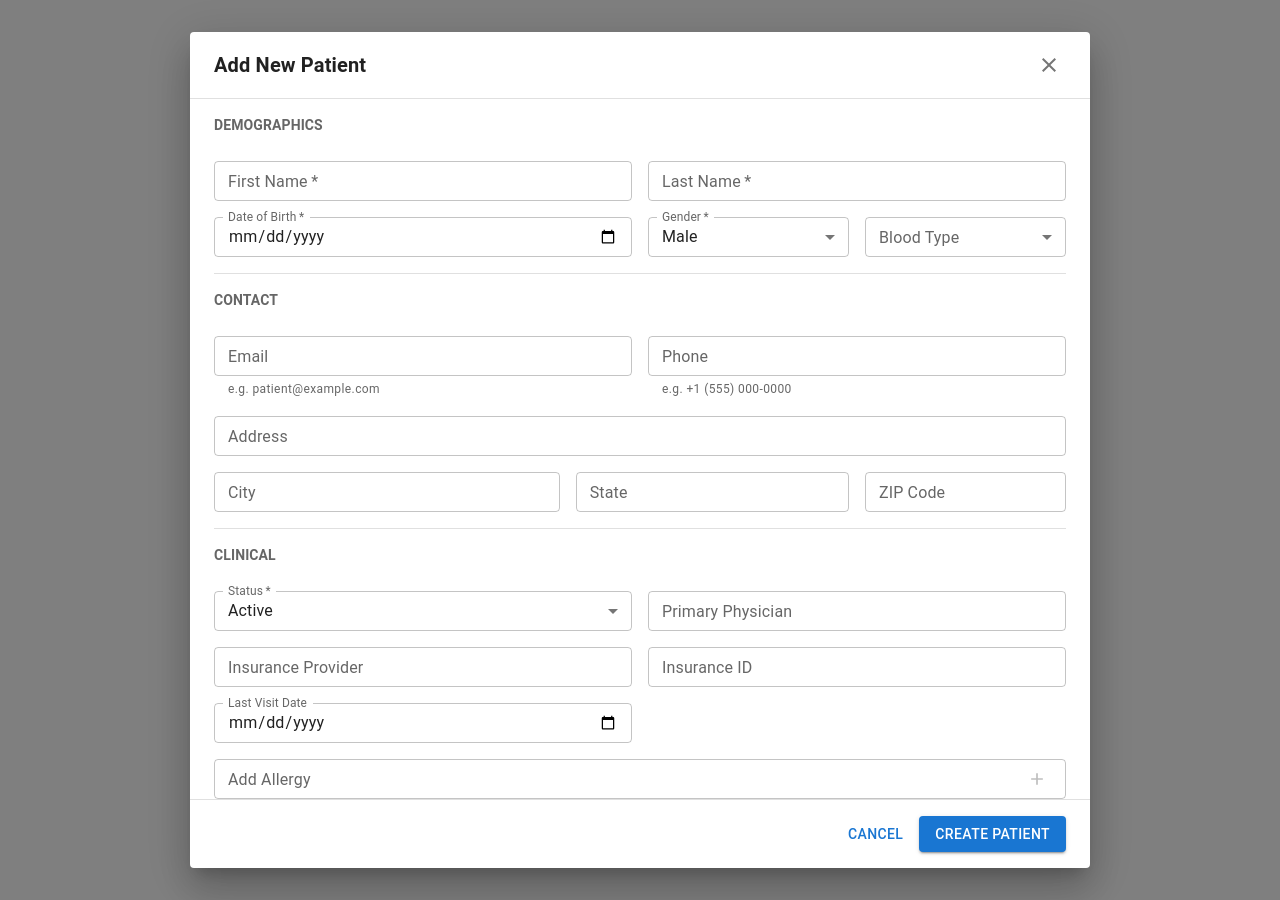
Test: PatientFormDialog › shows "Date of birth is required" when submitting with empty DOB
Type "Jane" into the field labelled "First Name *" at (423, 181), box x1=214 y1=161 x2=632 y2=201
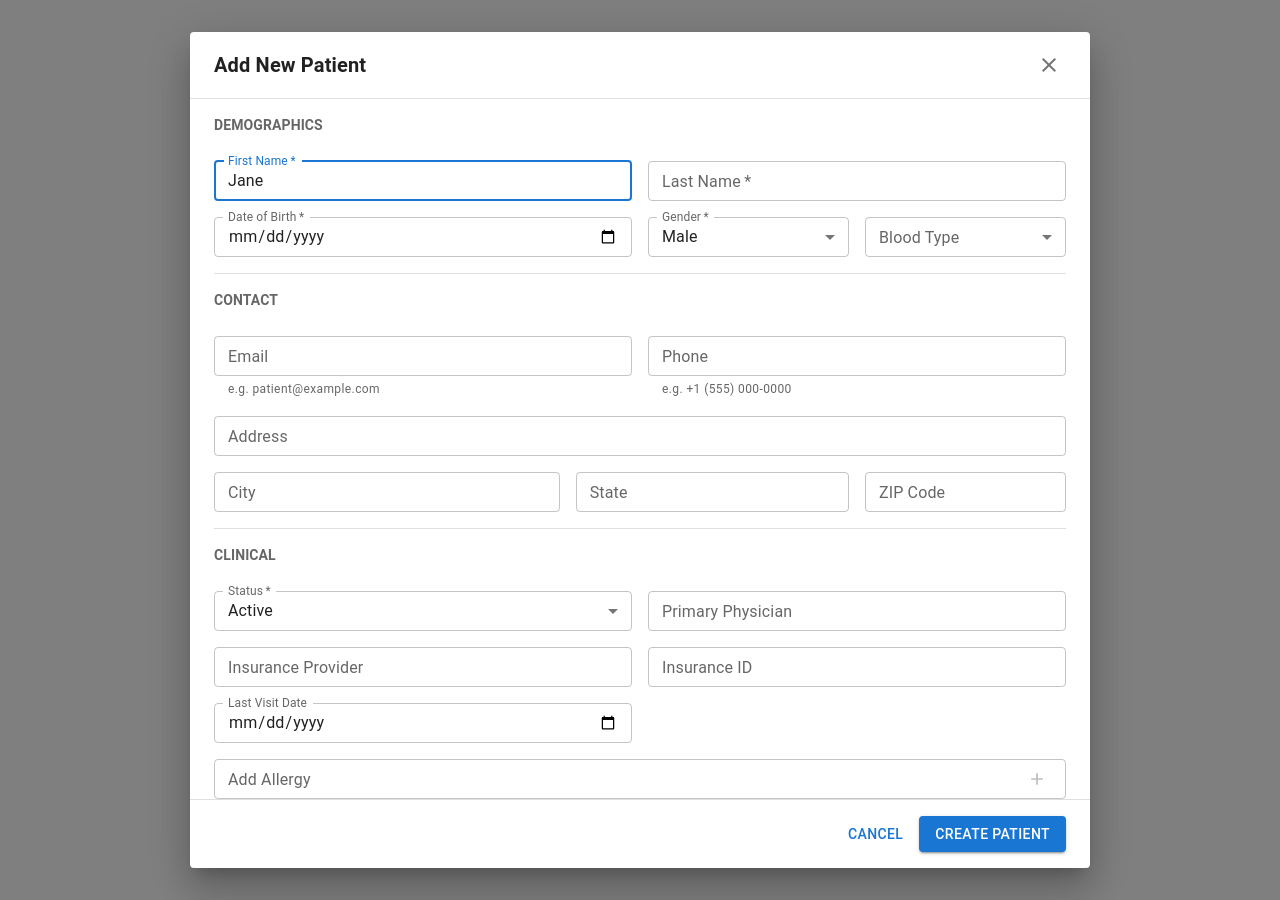
Type "Smith" into the field labelled "Last Name *" at (857, 181), box x1=648 y1=161 x2=1066 y2=201
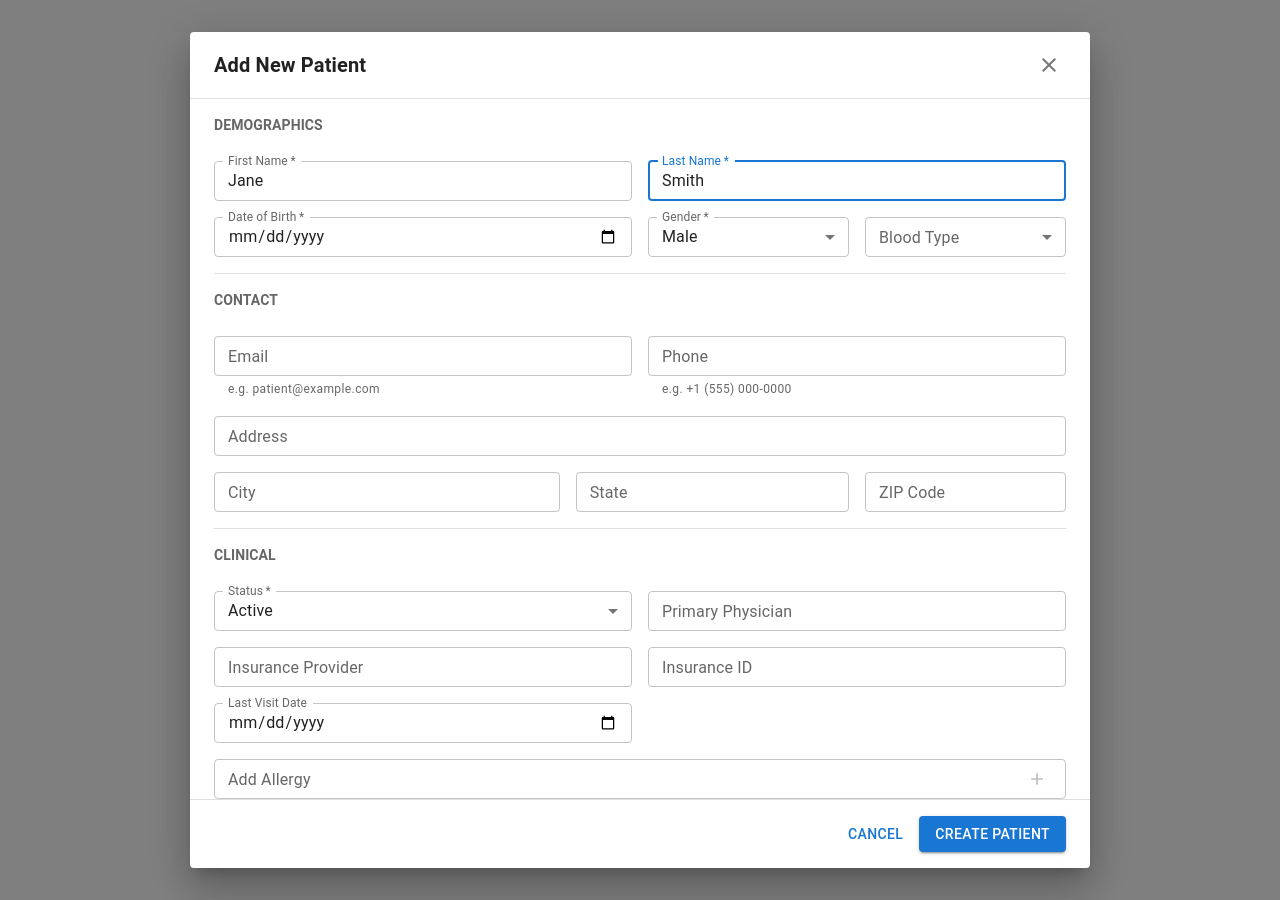
Click the button "Create Patient" at (993, 834), box x1=919 y1=816 x2=1066 y2=852
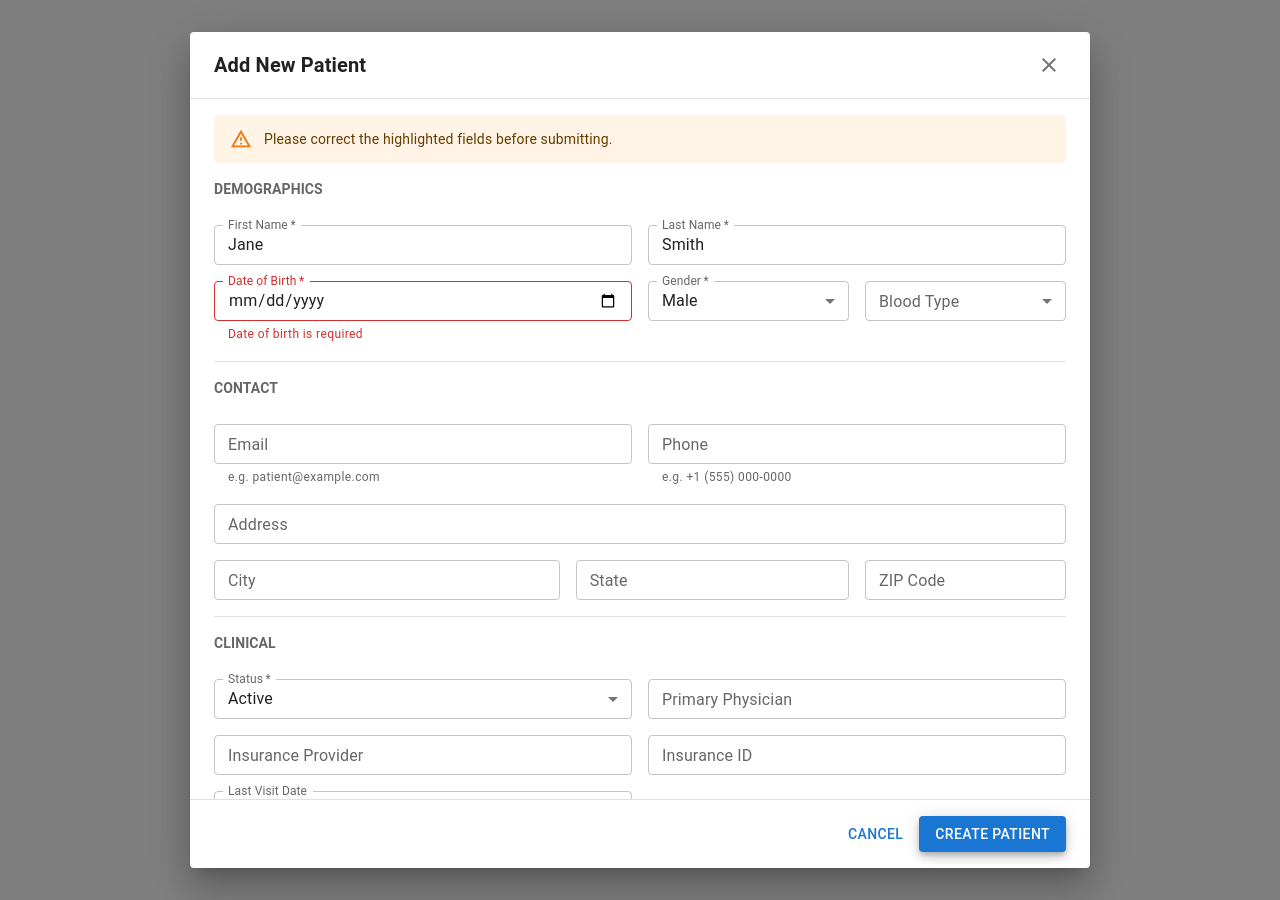
Result: the text "Date of birth is required" is shown at x1=228 y1=327 x2=363 y2=341
